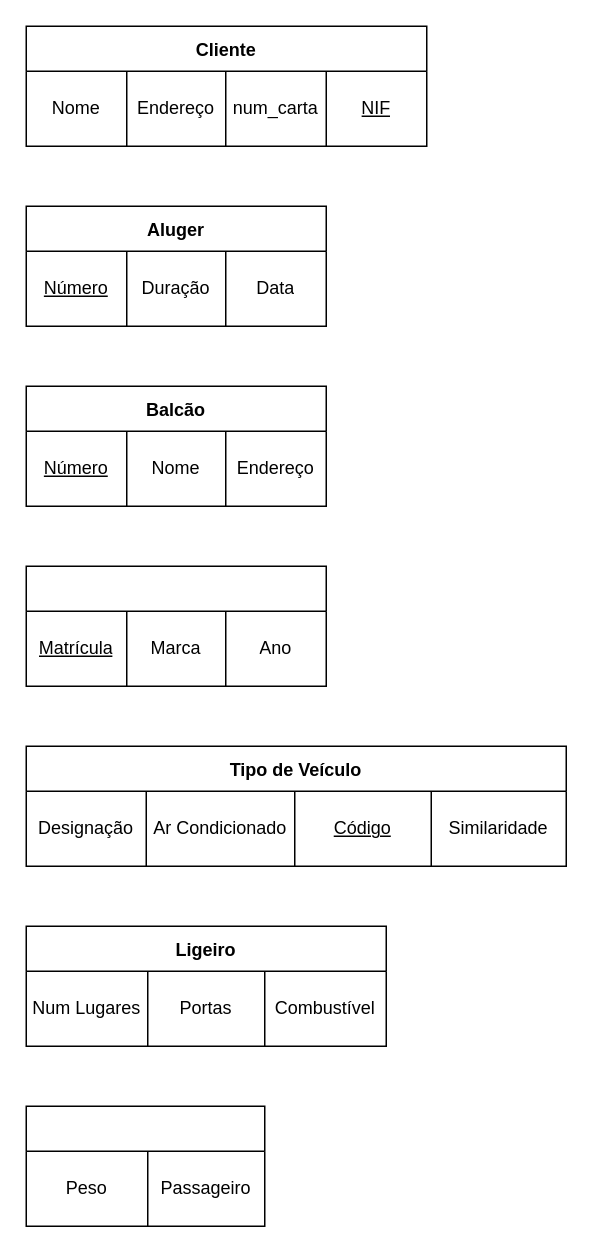
This 593x1253 diagram has some shape labels left out. Each missing label, with the box of its shape:
Pesado: (25, 1105, 265, 1226)
Veiculo: (25, 565, 326, 686)
